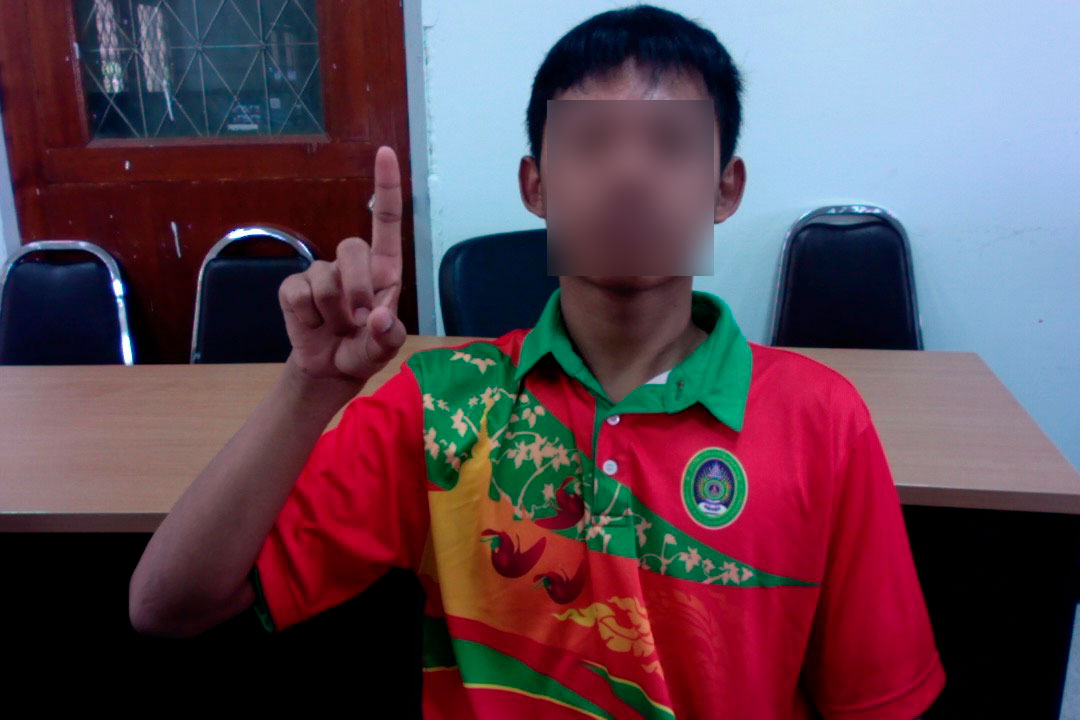dor: (269, 138, 427, 382)
